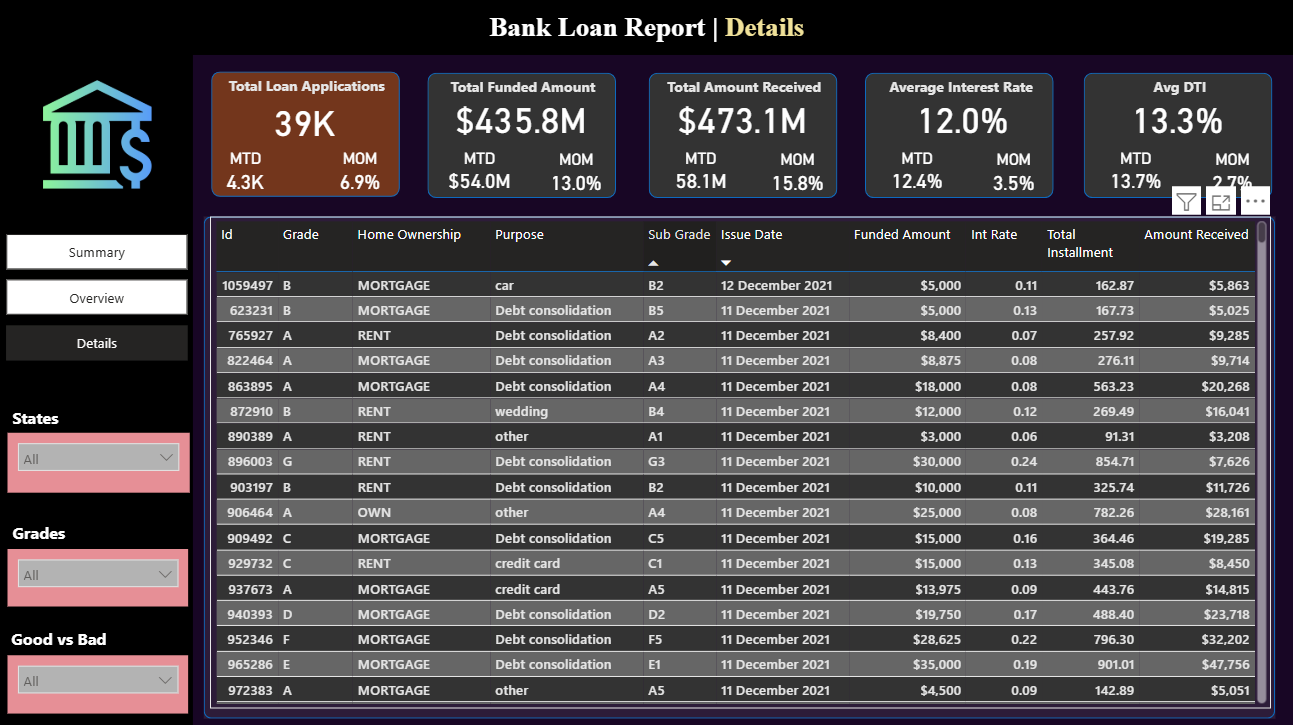

What the dashboard file says about the page in this screenshot:
{"tool":"powerbi","page":{"name":"Details","canvas":[1280,720],"ordinal":2},"visuals":[{"type":"shape","box":[0,54.4,190.3,666],"z":0},{"type":"shape","box":[208.2,71.9,186.2,123.8],"z":0,"group":"g1"},{"type":"shape","box":[422.7,72.4,186.2,123.8],"z":0,"group":"g2"},{"type":"shape","box":[641.1,72.4,186.2,123.8],"z":0,"group":"g3"},{"type":"shape","box":[854.2,72.4,186.2,123.8],"z":0,"group":"g4"},{"type":"shape","box":[1070.6,72.4,186.2,123.8],"z":0,"group":"g5"},{"type":"shape","box":[0,0,1280.3,55],"z":1000,"group":"g6"},{"type":"group","id":"g1","title":"Group 1","box":[207.1,70.7,188.7,125],"z":1000},{"type":"card","fields":{"Values":["Bank_Loan.Average Interrest Rate"]},"box":[856.3,95.1,187.6,44.9],"z":1000,"group":"g4"},{"type":"card","fields":{"Values":["Bank_Loan.Total Funded Amount"]},"box":[421,95.2,187.6,44.9],"z":1000,"group":"g2"},{"type":"card","fields":{"Values":["Bank_Loan.Total Amount Received"]},"box":[639.4,95.2,187.6,44.9],"z":1000,"group":"g3"},{"type":"card","fields":{"Values":["Bank_Loan.Average DTI"]},"box":[1068.9,95.2,187.6,44.9],"z":1000,"group":"g5"},{"type":"card","fields":{"Values":["Bank_Loan.Total Loan Applications"]},"box":[207.1,98.3,187.6,44.9],"z":1000,"group":"g1"},{"type":"textbox","box":[454.8,7.2,369.2,54.3],"z":2000,"group":"g6"},{"type":"card","title":"MTD","fields":{"Values":["Bank_Loan.MTD Average Interest Rate"]},"box":[857.4,147.7,95.1,46.2],"z":2000,"group":"g4"},{"type":"card","title":"MTD","fields":{"Values":["Bank_Loan.MTD Average DTI"]},"box":[1073.8,147.7,95.1,46.2],"z":2000,"group":"g5"},{"type":"card","title":"MTD","fields":{"Values":["Bank_Loan.MTD Total Funded AMount"]},"box":[425.9,147.8,95.1,46.2],"z":2000,"group":"g2"},{"type":"card","title":"MTD","fields":{"Values":["Bank_Loan.MTD Total Amount Received"]},"box":[644.3,147.8,95.1,46.2],"z":2000,"group":"g3"},{"type":"card","title":"MTD","fields":{"Values":["Bank_Loan.MTD loan Applications"]},"box":[212,148.2,59.8,47.6],"z":2000,"group":"g1"},{"type":"shape","box":[201.5,214.7,1058,495.8],"z":2000},{"type":"group","id":"g2","title":"Group 1","box":[421,71.2,188.2,124.3],"z":3000},{"type":"card","title":"MOM","fields":{"Values":["Bank_Loan.MOM"]},"box":[315.3,148.2,78.8,47.6],"z":3000,"group":"g1"},{"type":"card","title":"MOM","fields":{"Values":["Bank_Loan.MOM Average Interrest Rate"]},"box":[961.3,148.6,78.8,47.6],"z":3000,"group":"g4"},{"type":"card","title":"MOM","fields":{"Values":["Bank_Loan.MOM Average DTI"]},"box":[1177.6,148.6,78.8,47.6],"z":3000,"group":"g5"},{"type":"card","title":"MOM","fields":{"Values":["Bank_Loan.MOM Total Funded Amount"]},"box":[529.7,148.7,78.8,47.6],"z":3000,"group":"g2"},{"type":"card","title":"MOM","fields":{"Values":["Bank_Loan.MOM TotalAmount Received"]},"box":[748.1,148.7,78.8,47.6],"z":3000,"group":"g3"},{"type":"textbox","box":[209.6,70.7,186.2,30.6],"z":4000,"group":"g1"},{"type":"textbox","box":[424,71.2,186.2,30.6],"z":4000,"group":"g2"},{"type":"group","id":"g3","title":"Group 1","box":[639.4,71.2,189.4,124.3],"z":4000},{"type":"textbox","box":[642.4,71.2,186.2,30.6],"z":4000,"group":"g3"},{"type":"textbox","box":[855.3,71.2,187.6,31.3],"z":4000,"group":"g4"},{"type":"textbox","box":[1071.7,71.2,187.6,31.3],"z":4000,"group":"g5"},{"type":"group","id":"g4","title":"Group 1","box":[854.2,71.2,189.4,124.3],"z":5000},{"type":"group","id":"g5","title":"Group 1","box":[1068.9,71.2,190.6,125.5],"z":6000},{"type":"slicer","fields":{"Values":["Bank_Loan.address_state"]},"box":[7.2,428.3,179.8,59.1],"z":7000},{"type":"slicer","fields":{"Values":["Bank_Loan.grade"]},"box":[7.2,542.9,178.6,56.7],"z":8000},{"type":"slicer","fields":{"Values":["Bank_Loan.Good vs Bad Loan"]},"box":[7.2,647.9,178.6,57.9],"z":9000},{"type":"group","id":"g6","title":"Group 5","box":[0,0,1280.3,61.5],"z":10000},{"type":"textbox","box":[7.2,396.9,105,31.4],"z":11000},{"type":"textbox","box":[7.2,511.5,105,31.4],"z":12000},{"type":"textbox","box":[6,616.5,153.2,31.4],"z":13000},{"type":"tableEx","fields":{"Values":["Bank_Loan.id","Bank_Loan.grade","Bank_Loan.home_ownership","Bank_Loan.purpose","Bank_Loan.sub_grade","Bank_Loan.issue_date","Bank_Loan.Total Funded Amount","Sum(Bank_Loan.int_rate)","Sum(Bank_Loan.installment)","Bank_Loan.Total Amount Received"]},"box":[207.5,214.7,1048.4,486.2],"z":14000},{"type":"image","box":[18.1,74.8,154.4,117],"z":15000},{"type":"pageNavigator","box":[6,231.6,179.8,127.9],"z":16000}]}

Visuals, with their boxes in screenshot pixels (x1, y1, x2, y2), scaled from the page's 1280x720 canvas onto the 1293x725 screenshot:
shape: (0,55,192,724)
shape: (210,72,398,197)
shape: (427,73,615,198)
shape: (648,73,836,198)
shape: (863,73,1051,198)
shape: (1081,73,1270,198)
shape: (0,0,1292,55)
"Group 1" group: (209,71,400,197)
card - Bank_Loan.Average Interrest Rate: (865,96,1055,141)
card - Bank_Loan.Total Funded Amount: (425,96,615,141)
card - Bank_Loan.Total Amount Received: (646,96,835,141)
card - Bank_Loan.Average DTI: (1080,96,1269,141)
card - Bank_Loan.Total Loan Applications: (209,99,399,144)
textbox: (459,7,832,62)
"MTD" card: (866,149,962,195)
"MTD" card: (1085,149,1181,195)
"MTD" card: (430,149,526,195)
"MTD" card: (651,149,747,195)
"MTD" card: (214,149,275,197)
shape: (204,216,1272,715)
"Group 1" group: (425,72,615,197)
"MOM" card: (319,149,398,197)
"MOM" card: (971,150,1051,198)
"MOM" card: (1190,150,1269,198)
"MOM" card: (535,150,615,198)
"MOM" card: (756,150,835,198)
textbox: (212,71,400,102)
textbox: (428,72,616,103)
"Group 1" group: (646,72,837,197)
textbox: (649,72,837,103)
textbox: (864,72,1053,103)
textbox: (1083,72,1272,103)
"Group 1" group: (863,72,1054,197)
"Group 1" group: (1080,72,1272,198)
slicer - Bank_Loan.address_state: (7,431,189,491)
slicer - Bank_Loan.grade: (7,547,188,604)
slicer - Bank_Loan.Good vs Bad Loan: (7,652,188,711)
"Group 5" group: (0,0,1292,62)
textbox: (7,400,113,431)
textbox: (7,515,113,547)
textbox: (6,621,161,652)
tableEx - Bank_Loan.id x Bank_Loan.grade: (210,216,1269,706)
image: (18,75,174,193)
pageNavigator: (6,233,188,362)
